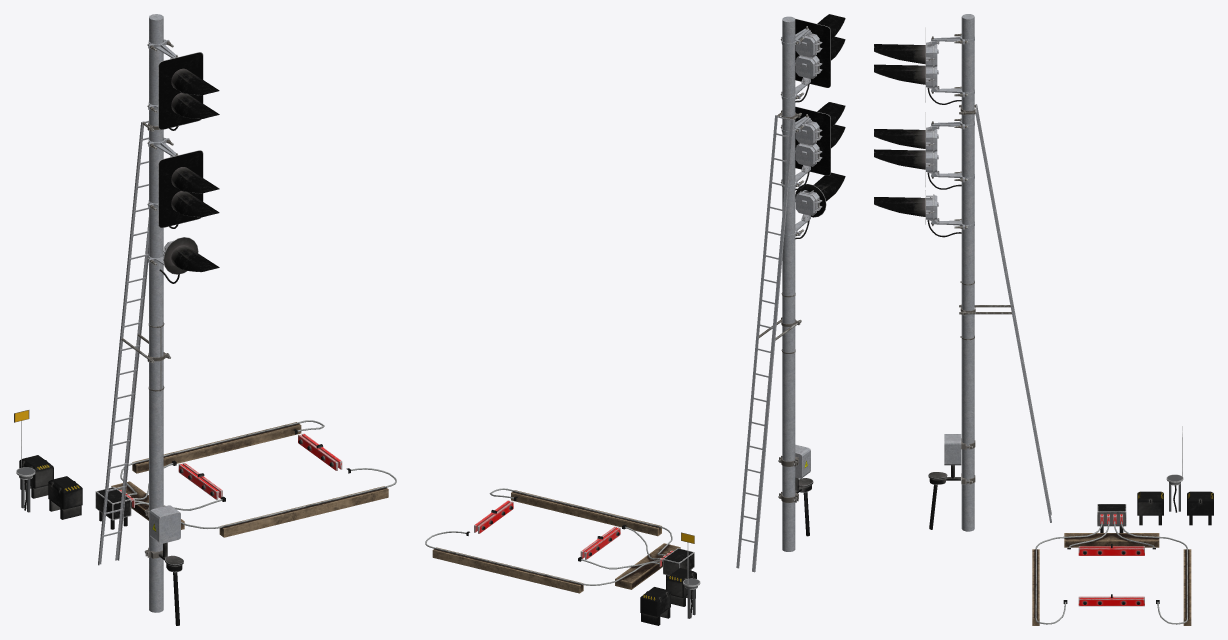
The model's file is RM_sig_P_MM1_YG+RY+W_2+2+1_DL_entr.gltf.
3 views of the same model, side by side, from view 1: azimuth 30°, elevation 25°; view 2: azimuth 150°, elevation 25°; view 3: azimuth 270°, elevation 25° (orthographic). The views are drawn at different scales.
Parts seen in each view (by area): view 1: Светофор 2+2+1, Изостык; view 2: Светофор 2+2+1, Изостык; view 3: Светофор 2+2+1, Изостык.
Boxes of the visible parts, left/top/right/bottom form: Светофор 2+2+1: left=98, top=14, right=219, bottom=625; Изостык: left=14, top=410, right=396, bottom=537; Светофор 2+2+1: left=736, top=14, right=845, bottom=572; Изостык: left=425, top=488, right=700, bottom=625; Светофор 2+2+1: left=874, top=14, right=1051, bottom=531; Изостык: left=1032, top=426, right=1213, bottom=625.
Bounding box in the file's own units: 4.11 × 7.57 × 4.55.
Materials: 2 (2 with a texture image).
